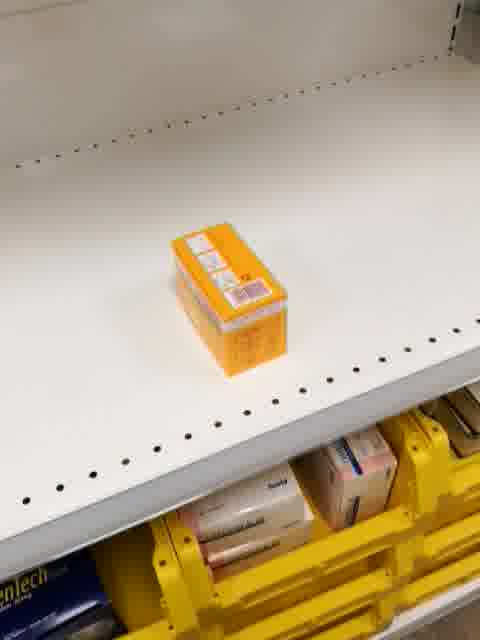jasminetea: (171, 218, 290, 377)
